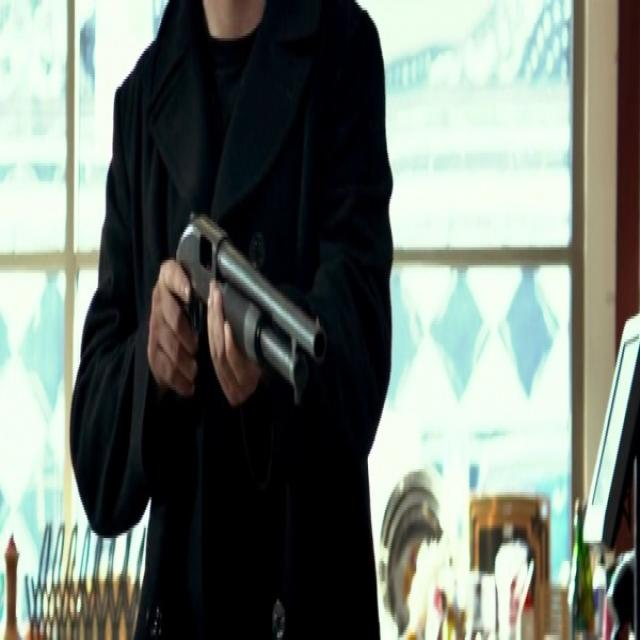rifle: (177, 210, 329, 414)
